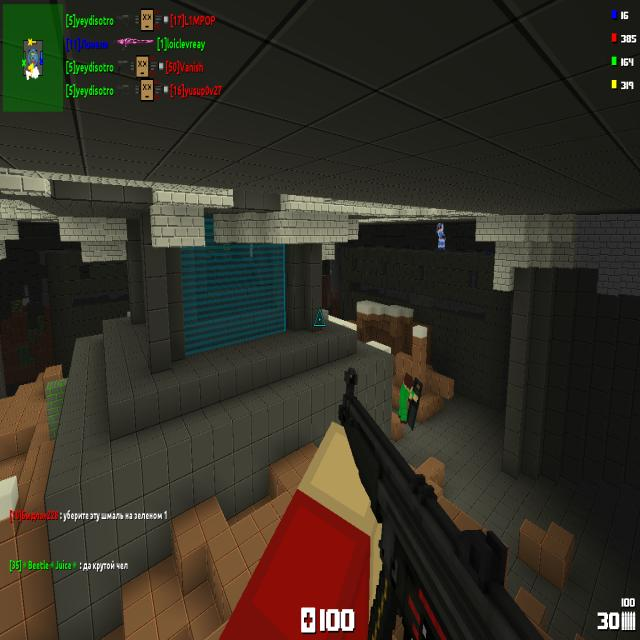enemy: (398, 373, 418, 430), (436, 222, 446, 252)
